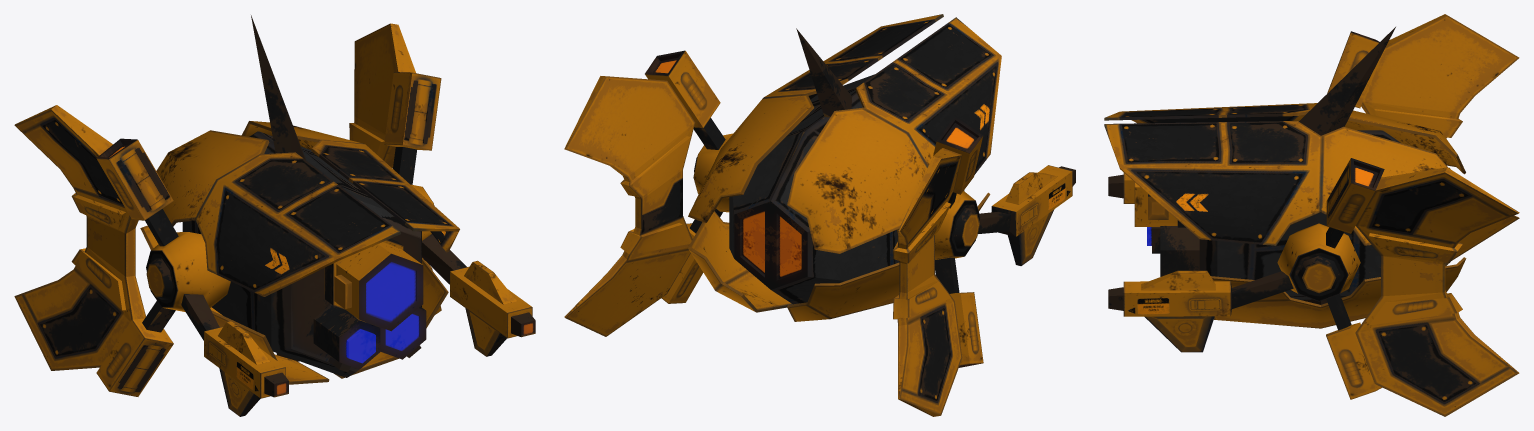
File: Drone.glb
3 views of the same model, side by side, from view 1: azimuth 30°, elevation 25°; view 2: azimuth 150°, elevation 25°; view 3: azimuth 270°, elevation 25° (orthographic). The views are drawn at different scales.
Parts seen in each view (by area): view 1: Drone; view 2: Drone; view 3: Drone.
Boxes of the visible parts, left/top/right/bottom form: Drone: left=14, top=15, right=535, bottom=416; Drone: left=564, top=14, right=1075, bottom=416; Drone: left=1104, top=14, right=1519, bottom=416.
Bounding box in the file's own units: 3.58 × 3.3 × 3.96.
Materials: 1 (1 with a texture image).
